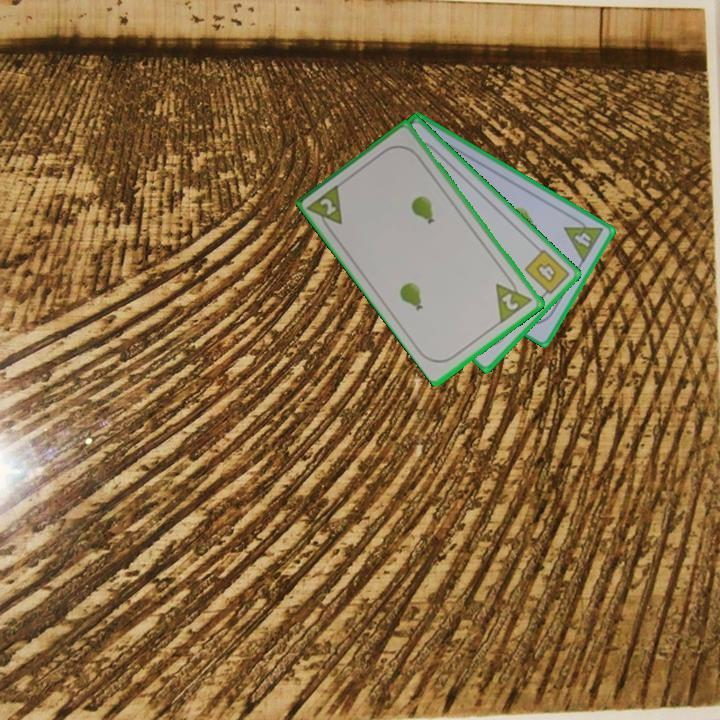2p: (305, 180, 346, 236), (498, 290, 522, 314)
4b: (521, 246, 573, 301)
4p: (561, 212, 606, 265)
